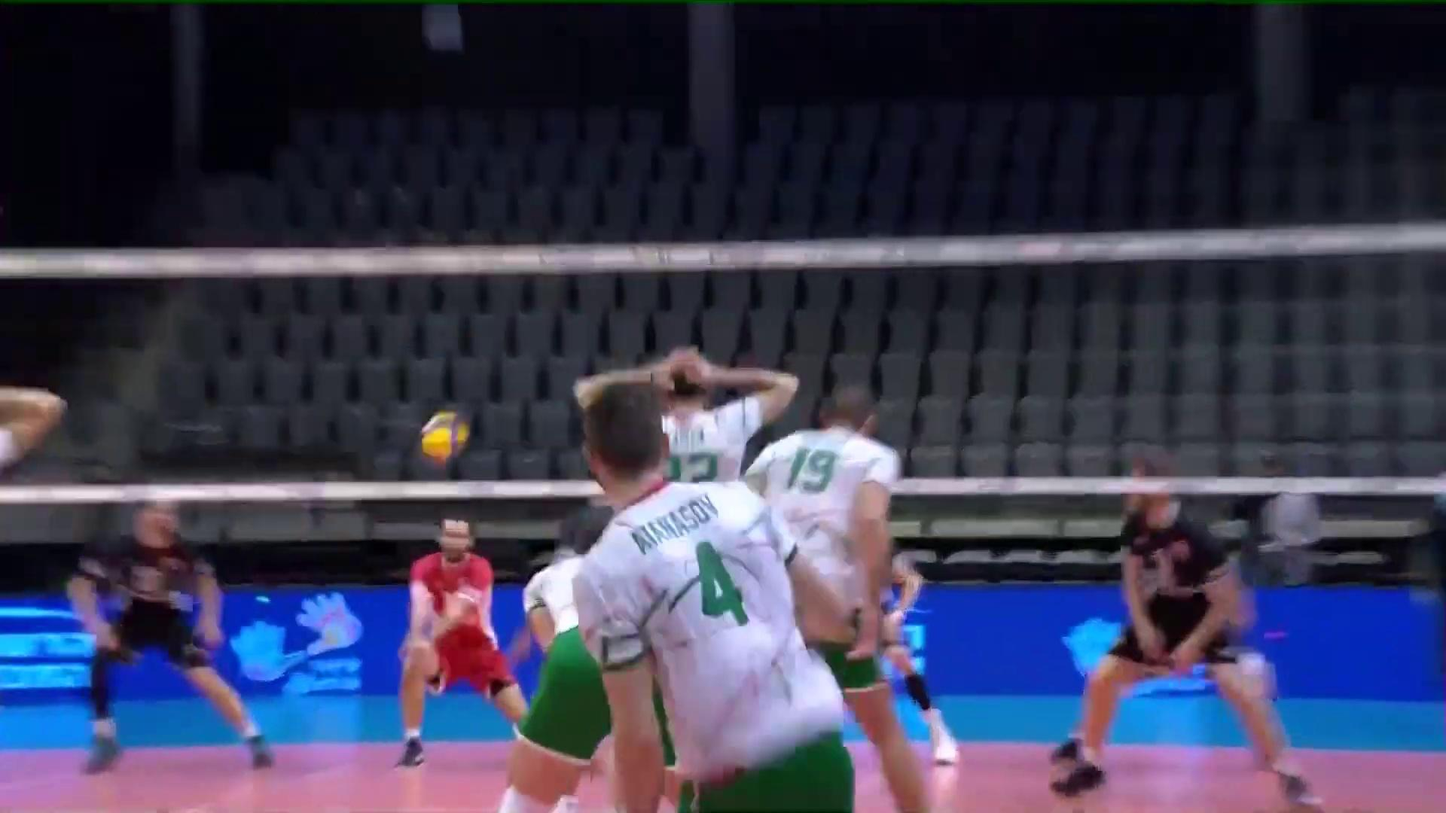ball: (420, 409, 471, 467)
